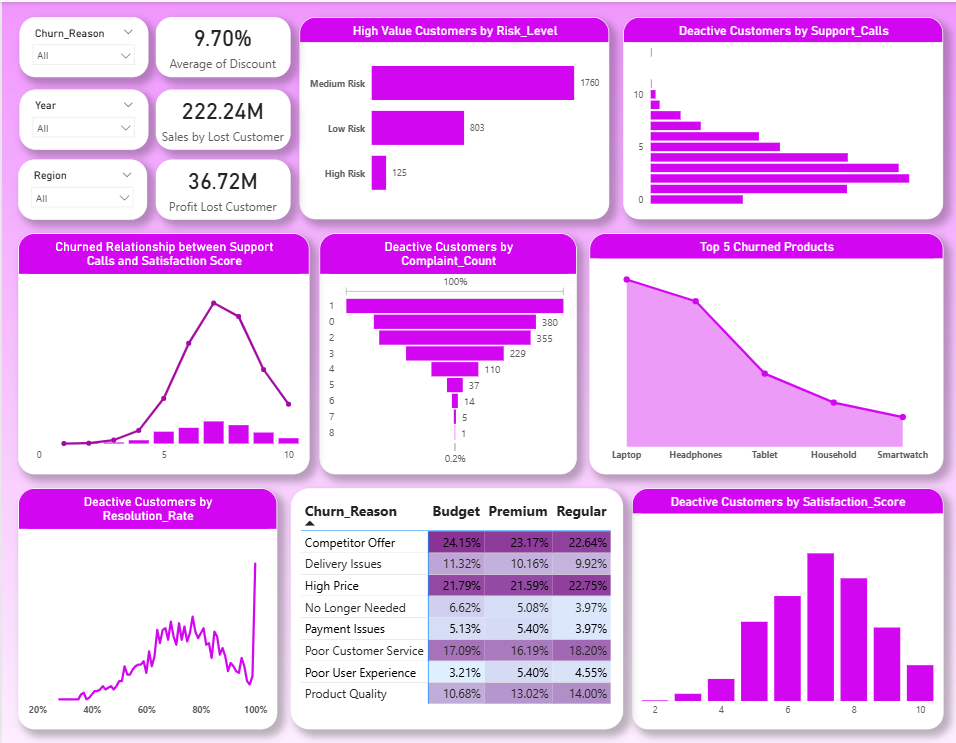

The page's visual inventory and layout, read from the dashboard file:
{"tool":"powerbi","page":{"name":"Customer Analysis","canvas":[1280,1000],"ordinal":1},"visuals":[{"type":"barChart","fields":{"Y":["Customer_Master.High Value Customers"],"Category":["Customer_Master.Risk_Level"]},"box":[398.8,20.1,415.6,271.4],"z":0},{"type":"columnChart","fields":{"Category":["Customer_Master.Satisfaction_Score"],"Y":["Customer_Master.Deactive Customers"]},"box":[844.5,651.8,417.2,323.4],"z":1000},{"type":"clusteredBarChart","fields":{"Category":["Customer_Interactions.Support_Calls"],"Y":["Customer_Master.Deactive Customers"]},"box":[832.8,20.1,429,271.4],"z":2000},{"type":"lineChart","fields":{"Category":["Customer_Interactions.Resolution_Rate"],"Y":["Customer_Master.Deactive Customers"]},"box":[21.8,651.8,346.9,323.4],"z":3000},{"type":"funnel","fields":{"Category":["Customer_Interactions.Complaint_Count"],"Y":["Customer_Master.Deactive Customers"]},"box":[425.6,310,345.2,323.4],"z":4000},{"type":"areaChart","title":"Top 5 Churned Products","fields":{"Category":["Sales_Data.Product_Name"],"Y":["Sales_Data.Churned Customers by Product"]},"box":[787.5,310,474.2,323.4],"z":5000},{"type":"lineStackedColumnComboChart","title":"Churned Relationship between Support Calls and Satisfaction Score","fields":{"Y":["Customer_Master.Deactive Customers"],"Category":["Customer_Interactions.Satisfaction_Score"],"Y2":["CountNonNull(Customer_Interactions.Support_Calls)"]},"box":[21.8,310,390.4,323.4],"z":6000},{"type":"slicer","fields":{"Values":["Customer_Master.Churn_Reason"]},"box":[23.5,20.1,172.6,80.4],"z":7000},{"type":"slicer","fields":{"Values":["Customer_Master.Last_Purchase_Date.Variation.Date Hierarchy.Year"]},"box":[23.5,117.3,172.6,80.4],"z":8000},{"type":"card","fields":{"Values":["Avg(Sales_Data.Discount)"]},"box":[206.1,20.1,181,80.4],"z":9000},{"type":"pivotTable","fields":{"Rows":["Customer_Master.Churn_Reason"],"Values":["Customer_Master.Deactive Rate"],"Columns":["Customer_Master.Customer_Segment"]},"box":[387.1,651.8,445.7,323.4],"z":10000},{"type":"slicer","fields":{"Values":["Customer_Master.Region"]},"box":[21.8,211.1,172.6,80.4],"z":11000},{"type":"card","fields":{"Values":["Sales_Data.Sales affecting by Lost Customer"]},"box":[206.1,117.3,181,80.4],"z":11001},{"type":"card","fields":{"Values":["Sales_Data.Profit affecting by Lost Customer"]},"box":[206.1,211.1,181,80.4],"z":11002}]}

Visuals, with their boxes in screenshot pixels (x1, y1, x2, y2), scaled from the page's 1280x1000 canvas onto the 956x743 screenshot:
barChart - Customer_Master.High Value Customers x Customer_Master.Risk_Level: [298, 15, 608, 217]
columnChart - Customer_Master.Satisfaction_Score x Customer_Master.Deactive Customers: [631, 484, 942, 725]
clusteredBarChart - Customer_Interactions.Support_Calls x Customer_Master.Deactive Customers: [622, 15, 942, 217]
lineChart - Customer_Interactions.Resolution_Rate x Customer_Master.Deactive Customers: [16, 484, 275, 725]
funnel - Customer_Interactions.Complaint_Count x Customer_Master.Deactive Customers: [318, 230, 576, 471]
"Top 5 Churned Products" areaChart: [588, 230, 942, 471]
"Churned Relationship between Support Calls and Satisfaction Score" lineStackedColumnComboChart: [16, 230, 308, 471]
slicer - Customer_Master.Churn_Reason: [18, 15, 146, 75]
slicer - Customer_Master.Last_Purchase_Date.Variation.Date Hierarchy.Year: [18, 87, 146, 147]
card - Avg(Sales_Data.Discount): [154, 15, 289, 75]
pivotTable - Customer_Master.Churn_Reason x Customer_Master.Deactive Rate: [289, 484, 622, 725]
slicer - Customer_Master.Region: [16, 157, 145, 217]
card - Sales_Data.Sales affecting by Lost Customer: [154, 87, 289, 147]
card - Sales_Data.Profit affecting by Lost Customer: [154, 157, 289, 217]
